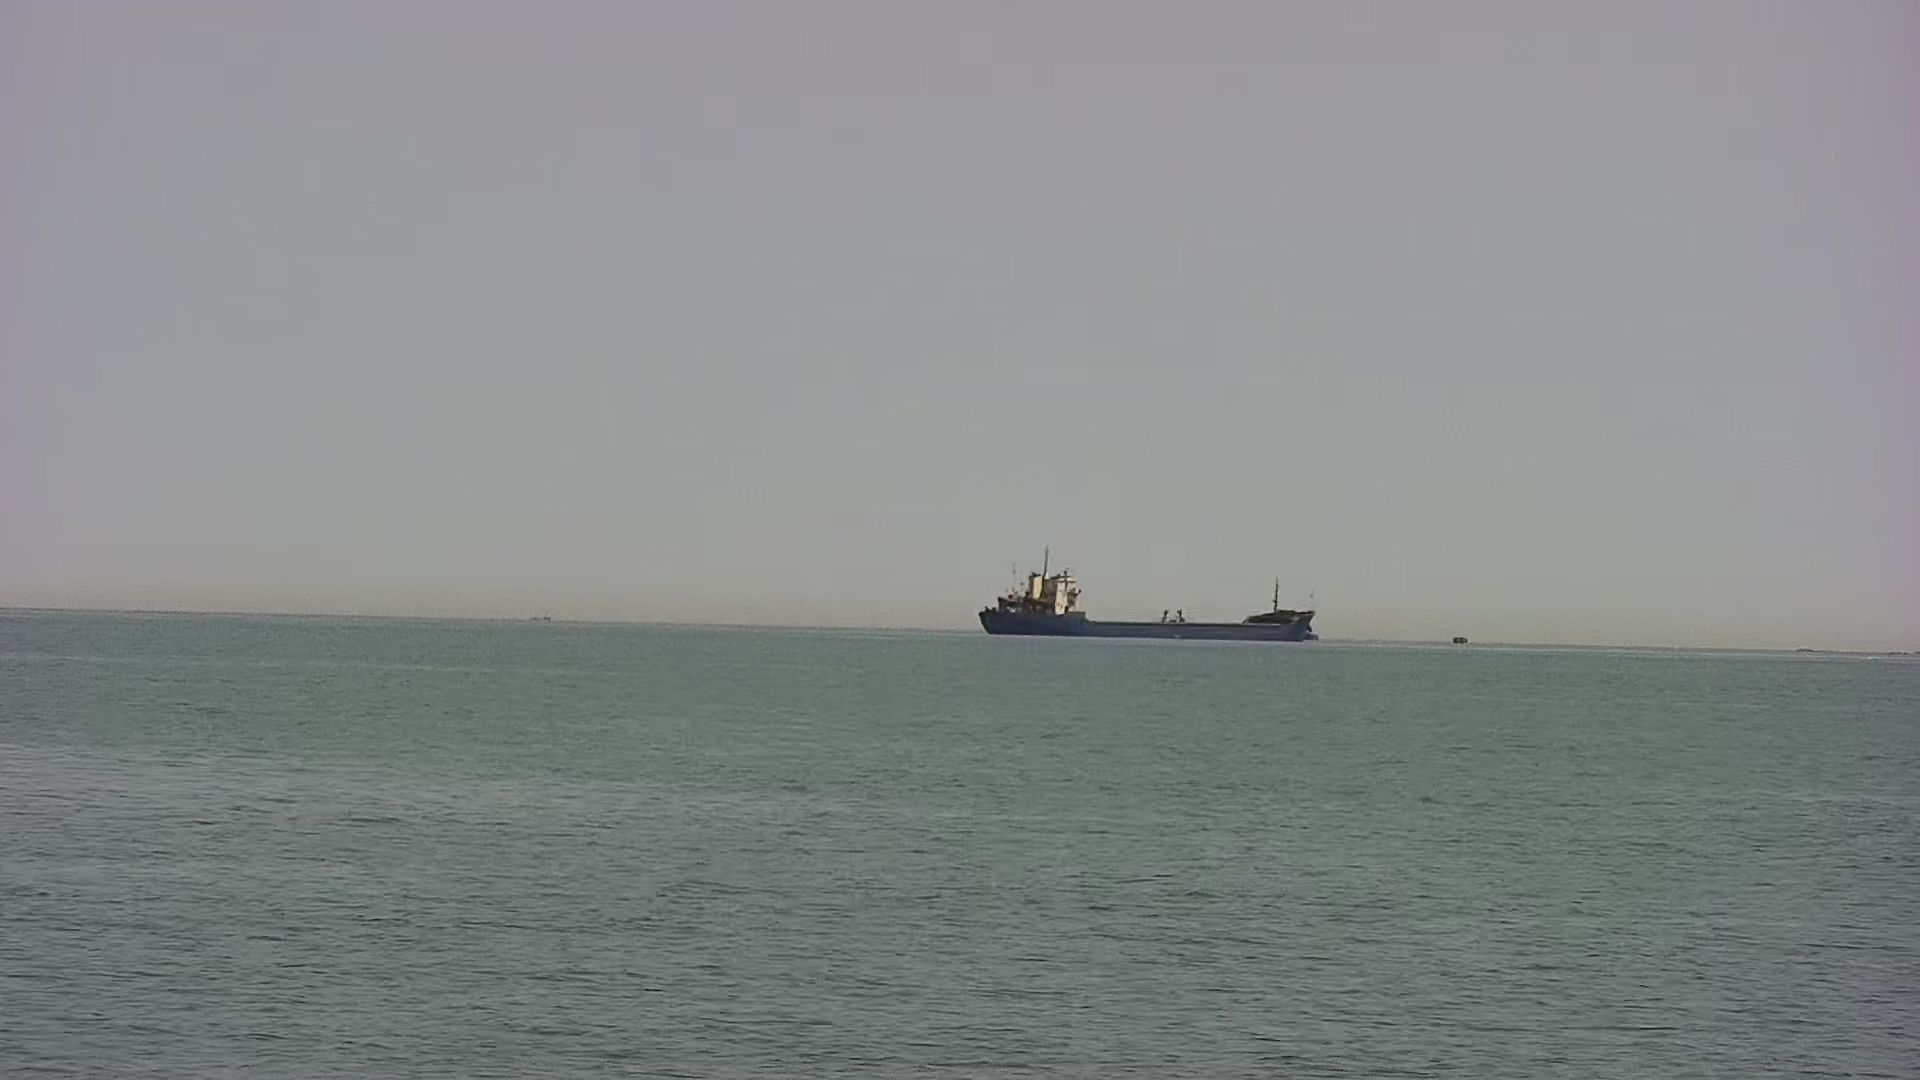ball: (1451, 630, 1472, 649)
ship: (975, 558, 1327, 645)
